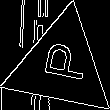P_W: (34, 43, 89, 89)
